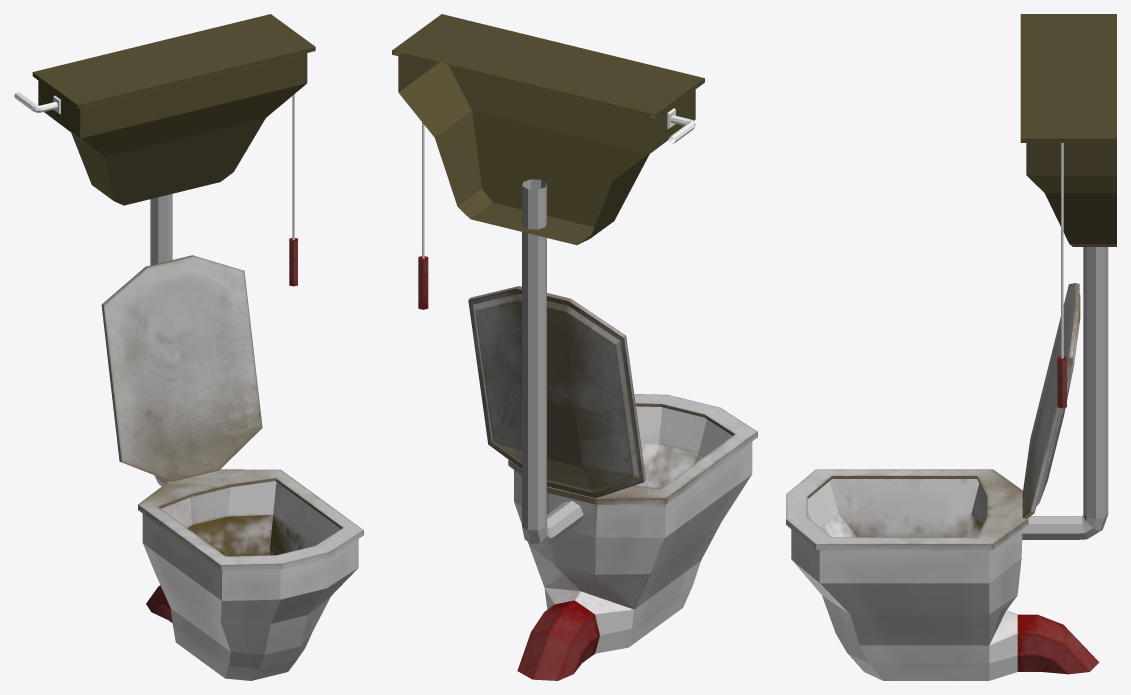
Rendered from Model_Kibelek_Anona.fbx.
3 views of the same model, side by side, from view 1: azimuth 30°, elevation 25°; view 2: azimuth 150°, elevation 25°; view 3: azimuth 270°, elevation 25° (orthographic). The views are drawn at different scales.
Parts seen in each view (by area): view 1: Kibel_Anona; view 2: Kibel_Anona; view 3: Kibel_Anona.
Boxes of the visible parts, left/top/right/bottom form: Kibel_Anona: left=14, top=14, right=363, bottom=680; Kibel_Anona: left=392, top=14, right=757, bottom=680; Kibel_Anona: left=786, top=14, right=1116, bottom=680.
Size of the model in its own units: 98.43 by 199 by 102.
